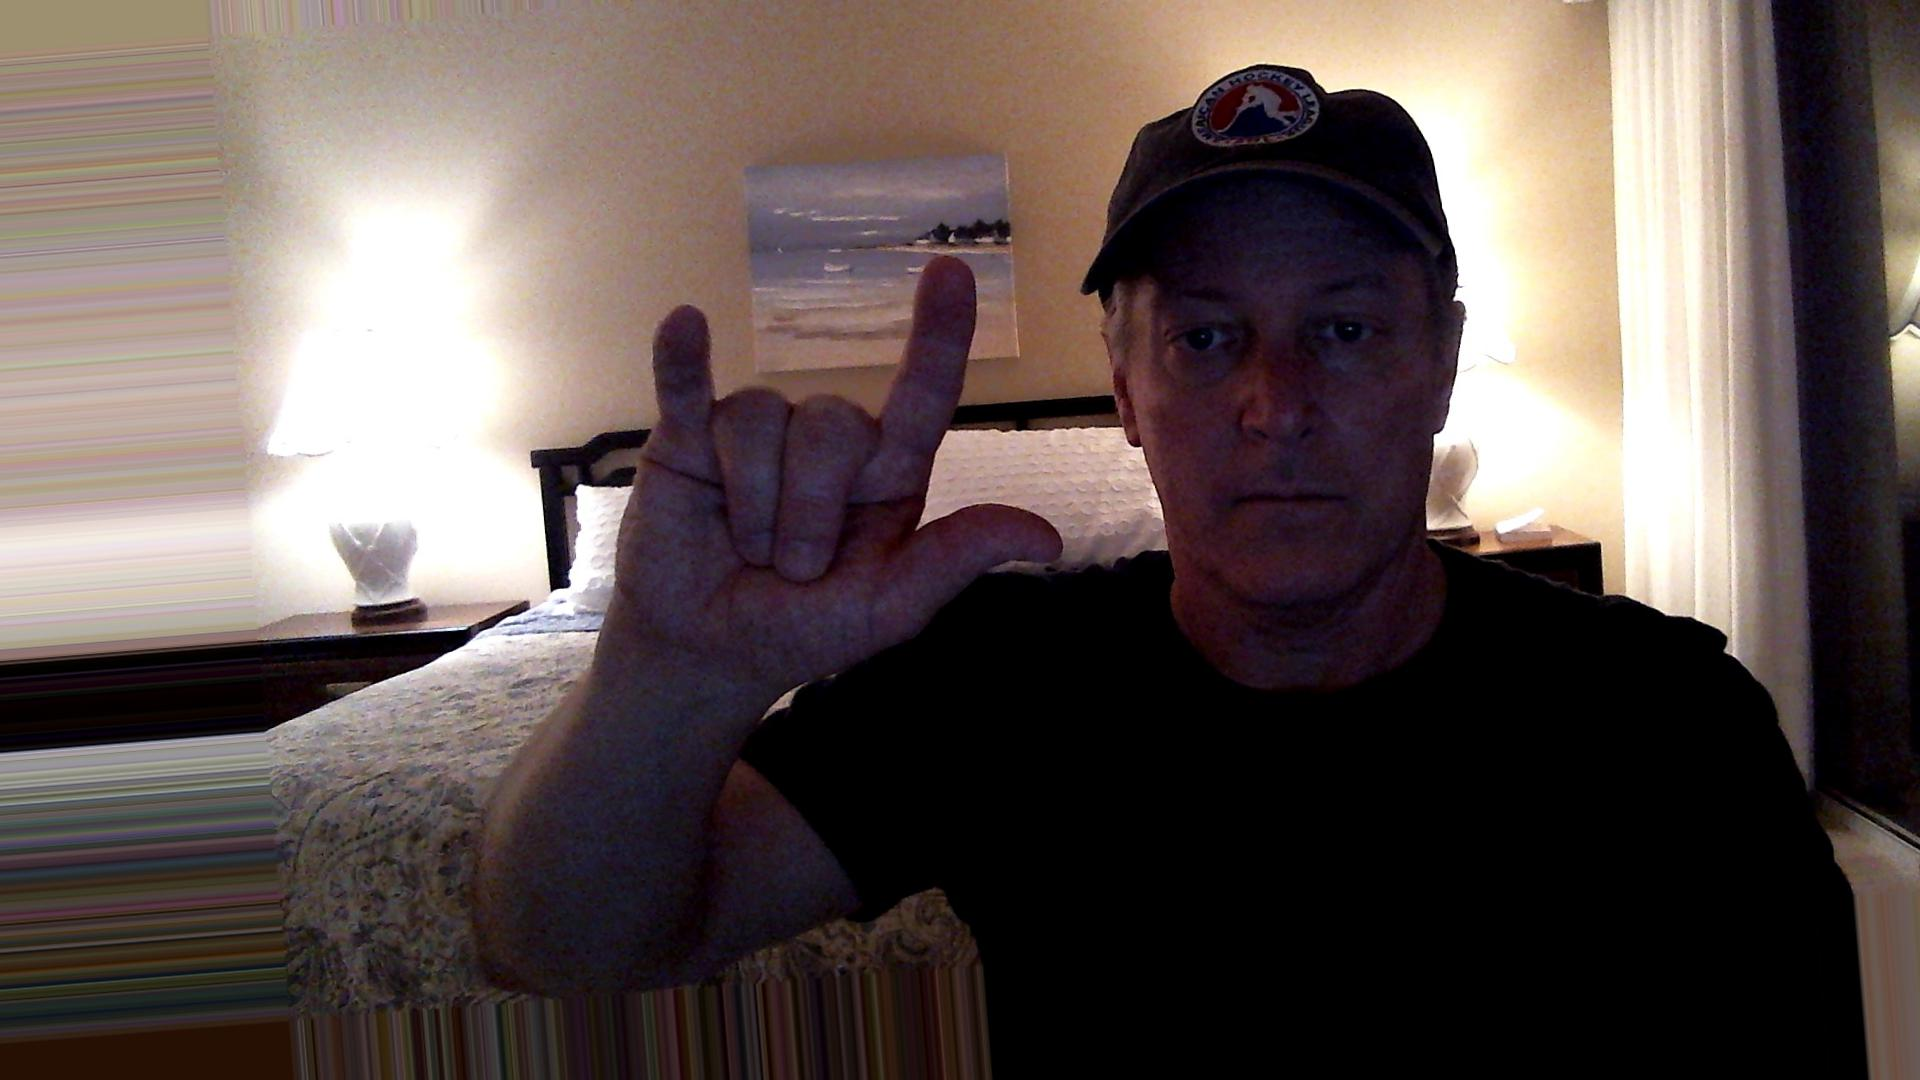I Love You: (612, 245, 1077, 684)
